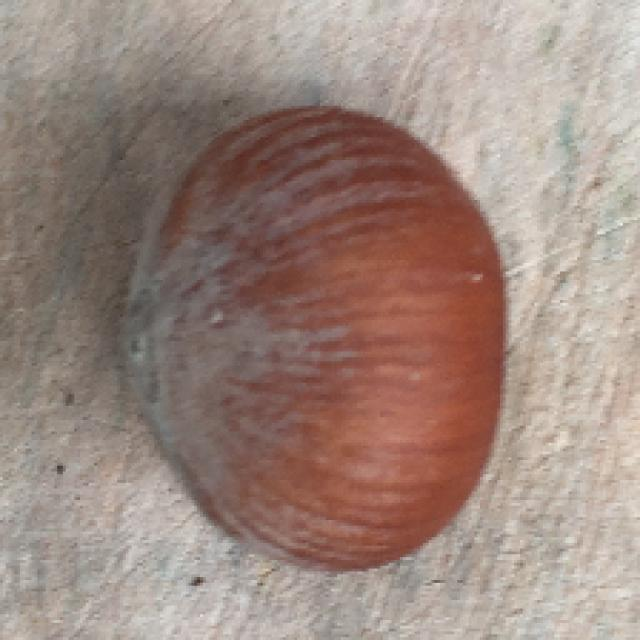qualityHazelnut: (125, 101, 513, 579)
